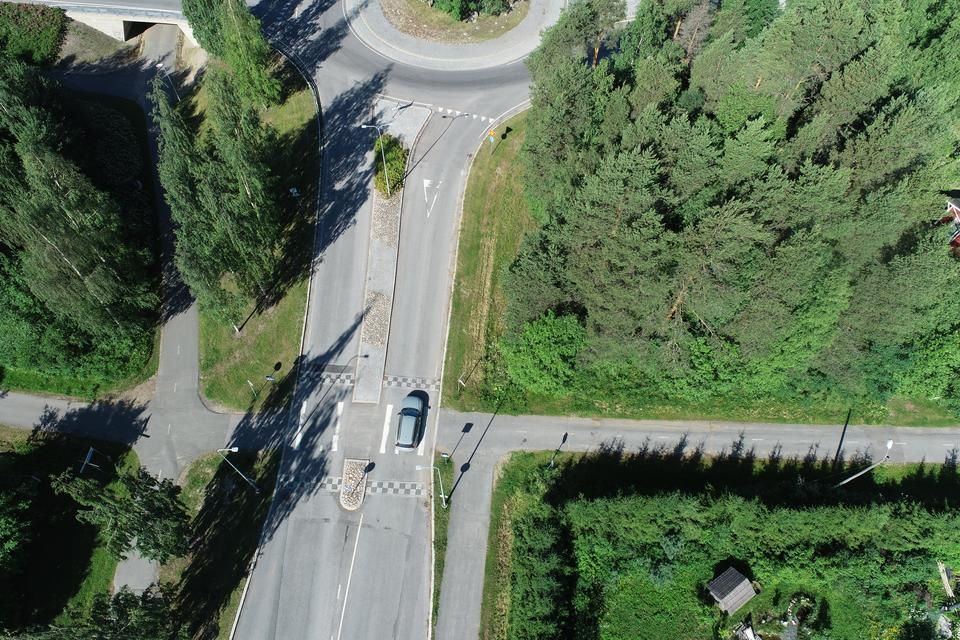intersection: (236, 375, 556, 516)
roundabout: (225, 0, 669, 148)
